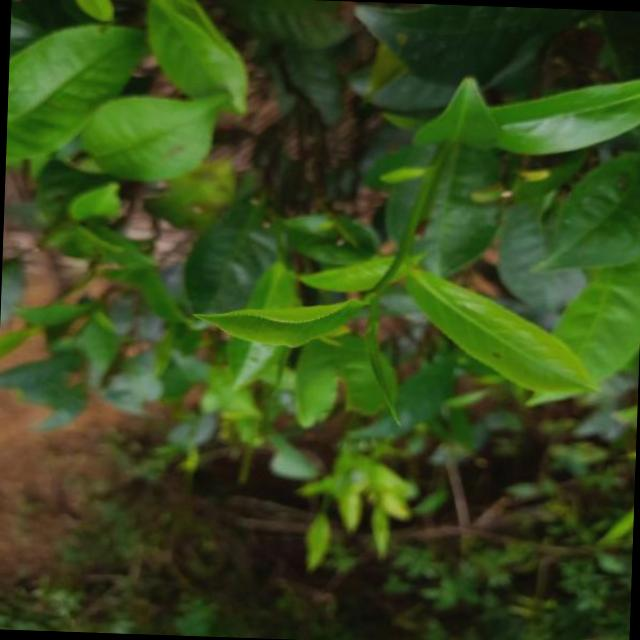Stem: (369, 286, 380, 297)
